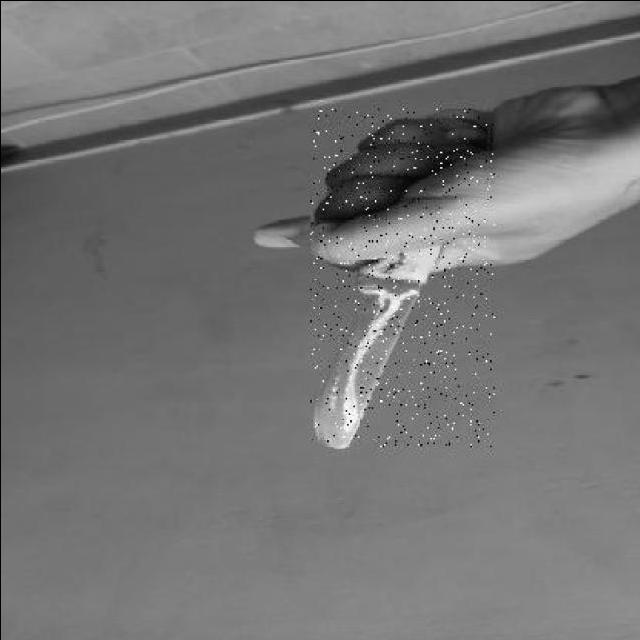Knife: (310, 108, 493, 446)
